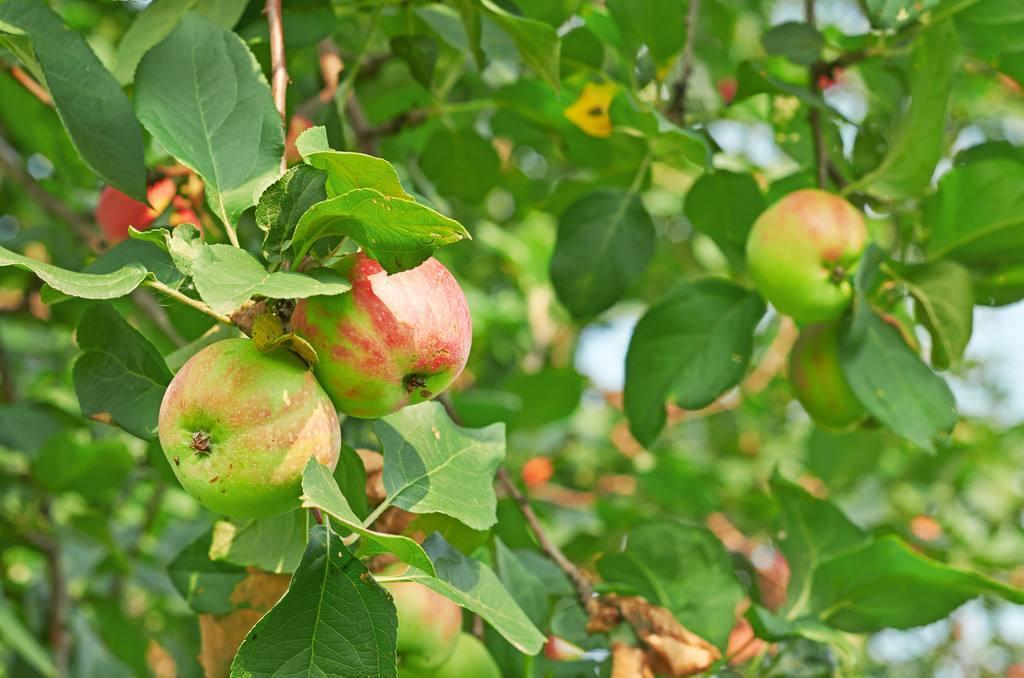apple: (159, 331, 342, 523), (286, 251, 469, 418), (745, 186, 867, 326), (378, 578, 472, 674)
